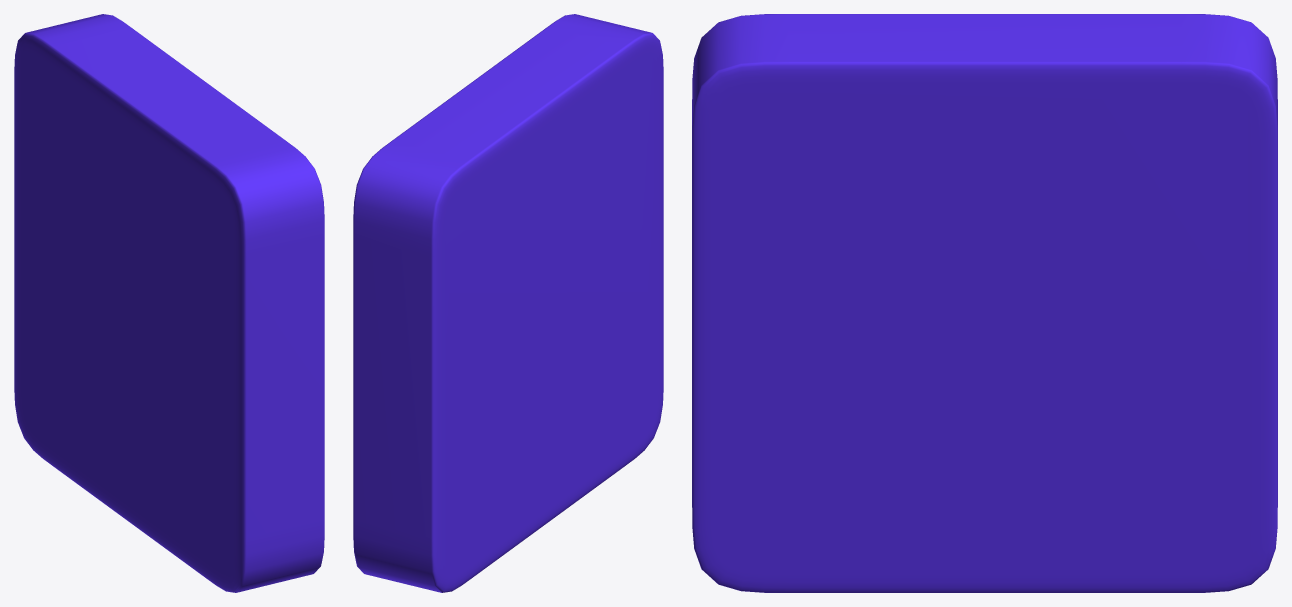
The model's file is square.glb.
3 views of the same model, side by side, from view 1: azimuth 30°, elevation 25°; view 2: azimuth 150°, elevation 25°; view 3: azimuth 270°, elevation 25° (orthographic). The views are drawn at different scales.
Parts seen in each view (by area): view 1: Cube; view 2: Cube; view 3: Cube.
Boxes of the visible parts, left/top/right/bottom form: Cube: left=14, top=14, right=324, bottom=592; Cube: left=353, top=14, right=663, bottom=592; Cube: left=692, top=14, right=1277, bottom=592.
Size of the model in its own units: 0.0229 by 0.1102 by 0.1102.
